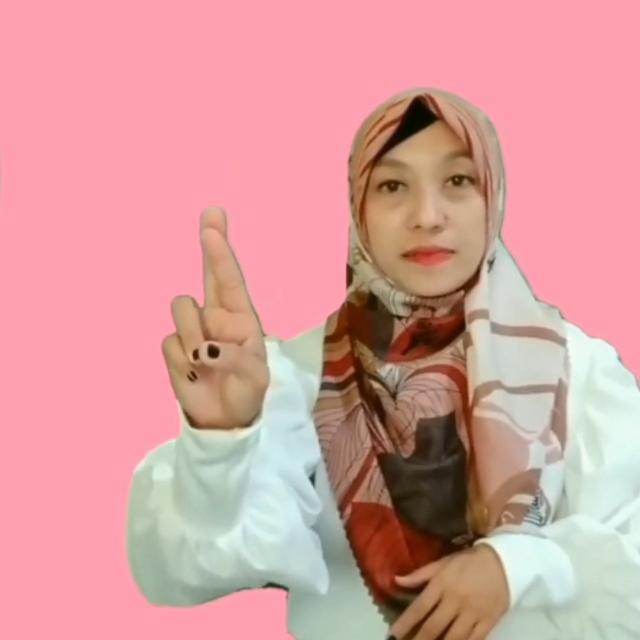R: (158, 203, 276, 437)
